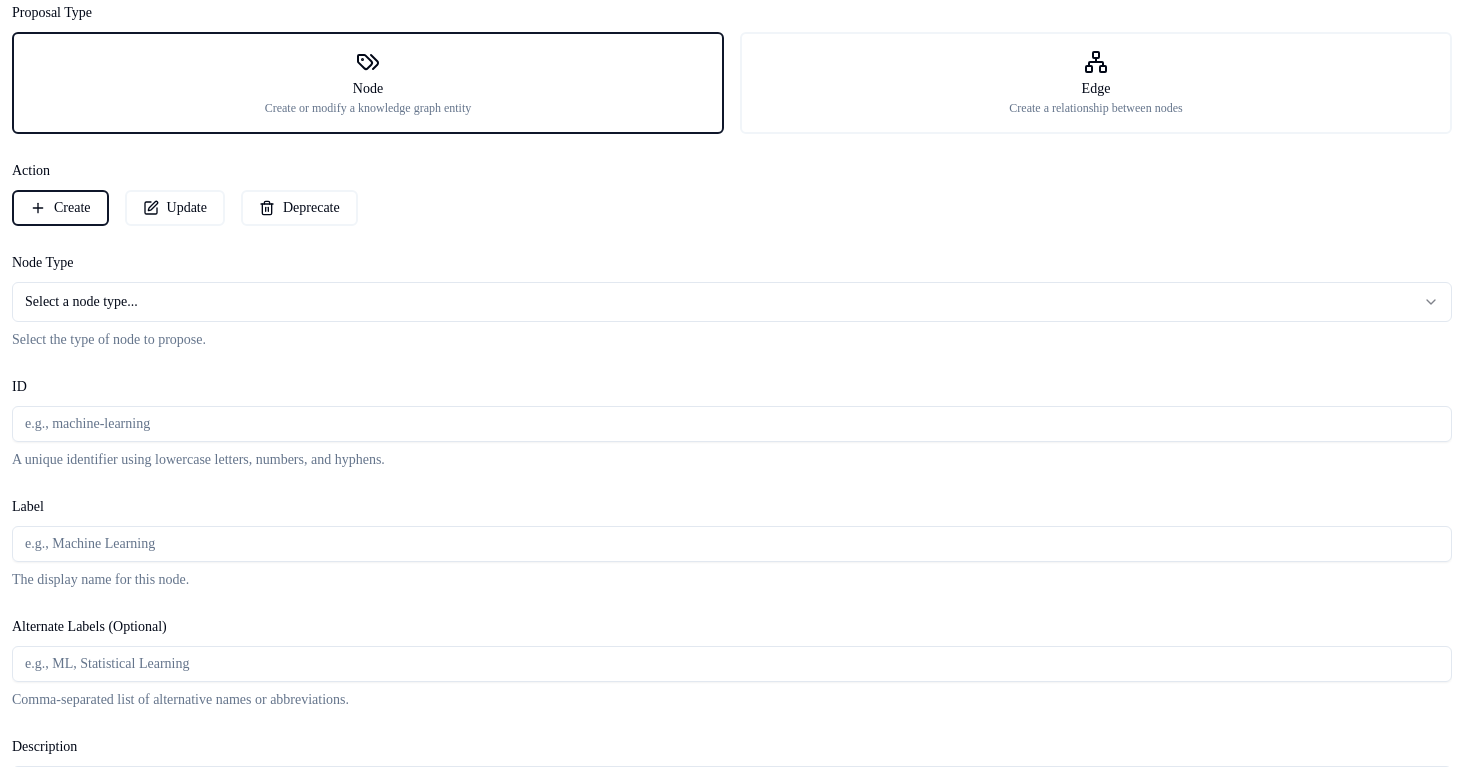
Test: ProposalForm › Node Proposals › shows subkinds in dropdown when opened
Click the dropdown labelled "Select a node type..." at (81, 302), box [12, 282, 1452, 322]
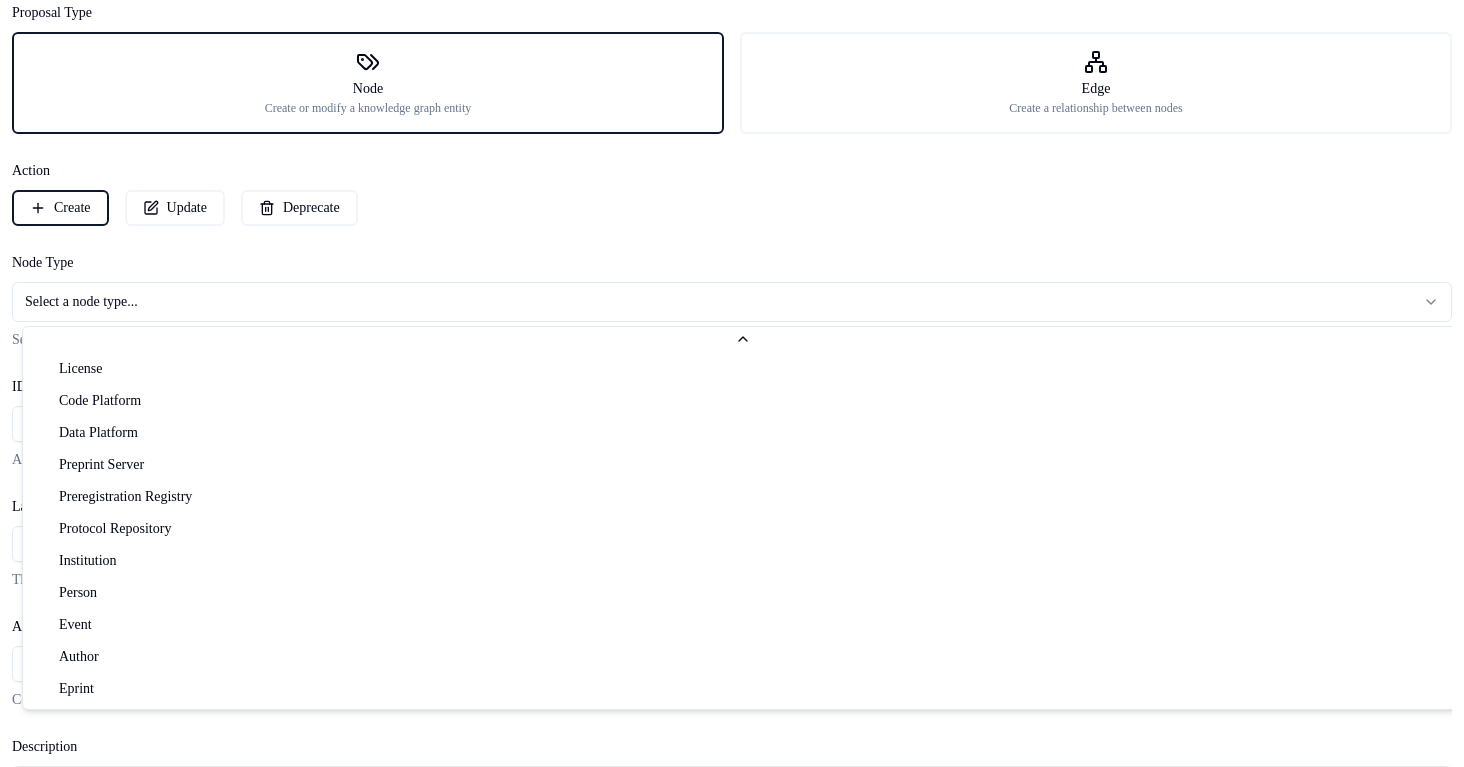
Check: the text "Institution" is shown, box [59, 551, 117, 571]
Check: the text "Person" is shown, box [59, 583, 97, 603]
